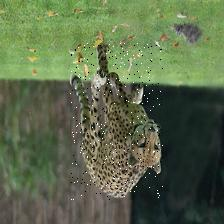Cheetha: (71, 43, 164, 200)
